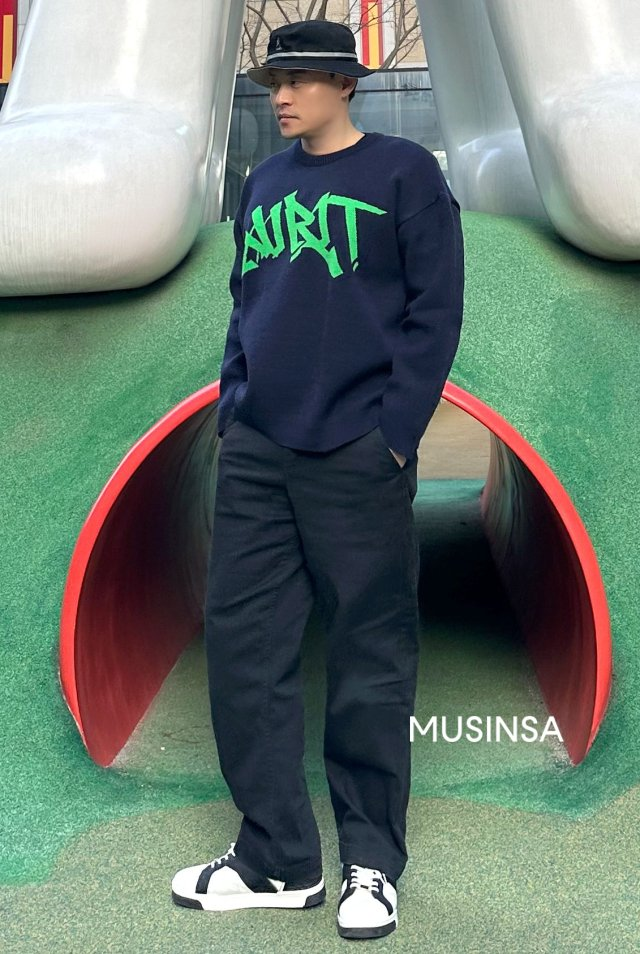Buckethat: (242, 19, 380, 82)
Pants: (194, 418, 442, 874)
Shoes: (168, 842, 409, 941)
Top: (224, 131, 463, 458)
